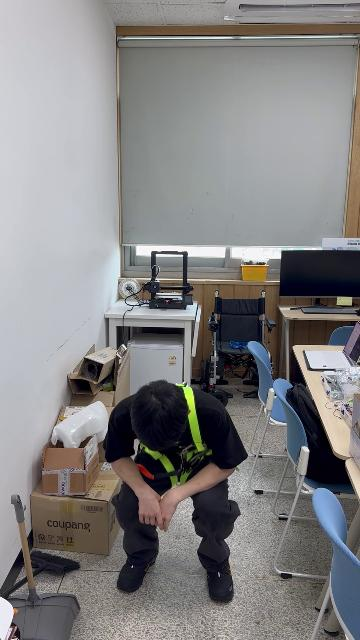helmet_not_worn: (131, 379, 191, 447)
shoe_worn: (117, 550, 158, 592), (202, 557, 234, 602)
vest_worn: (141, 388, 213, 484)
